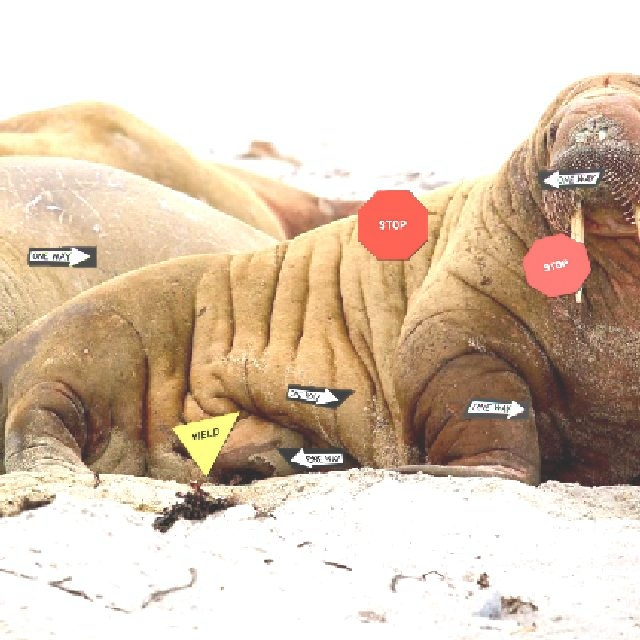ONE_WAY_ left: (535, 165, 606, 189), (273, 446, 344, 469)
ONE_WAY_ right: (284, 383, 355, 408), (458, 395, 529, 419), (25, 244, 96, 267)
STOP: (356, 188, 427, 259), (520, 231, 591, 297)
YIELD: (169, 409, 240, 477)
